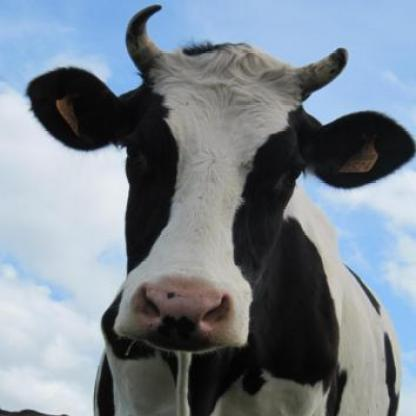lower: (148, 340, 215, 351)
mouth: (119, 270, 247, 355)
upper: (163, 285, 198, 314)
